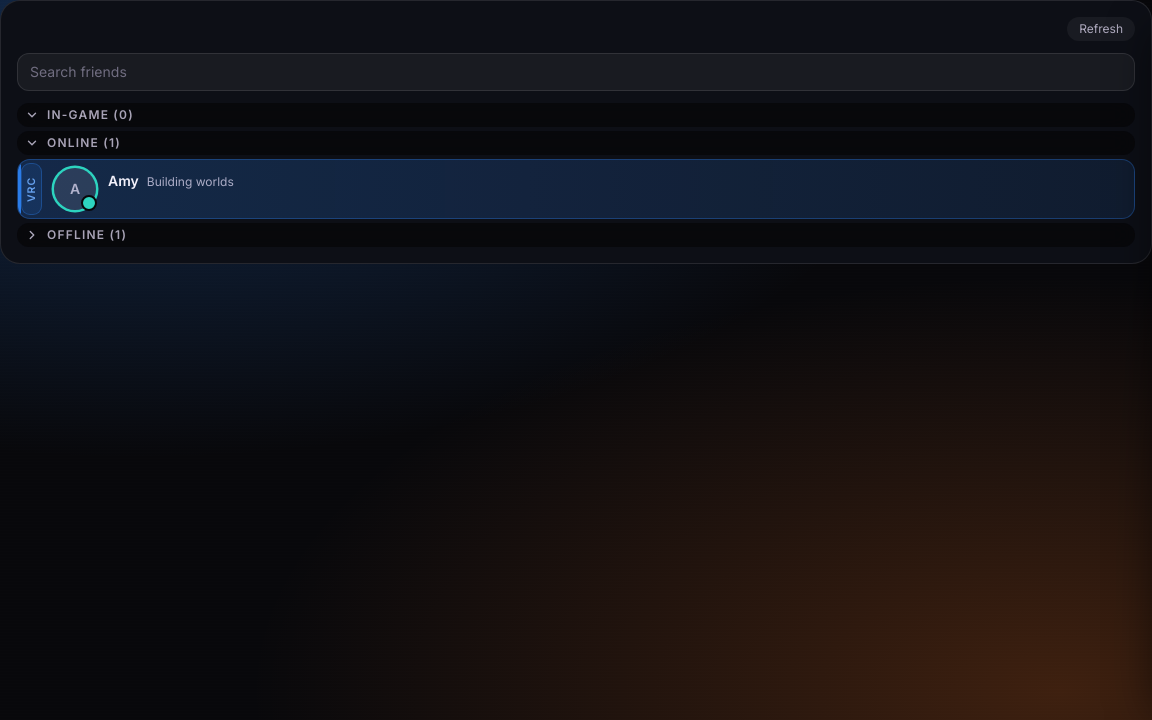
FriendsList search (VRX-65) › shows a custom status only for friends who are not offline
Click the button "Offline (1)": (87, 234) [17,223,1135,247]
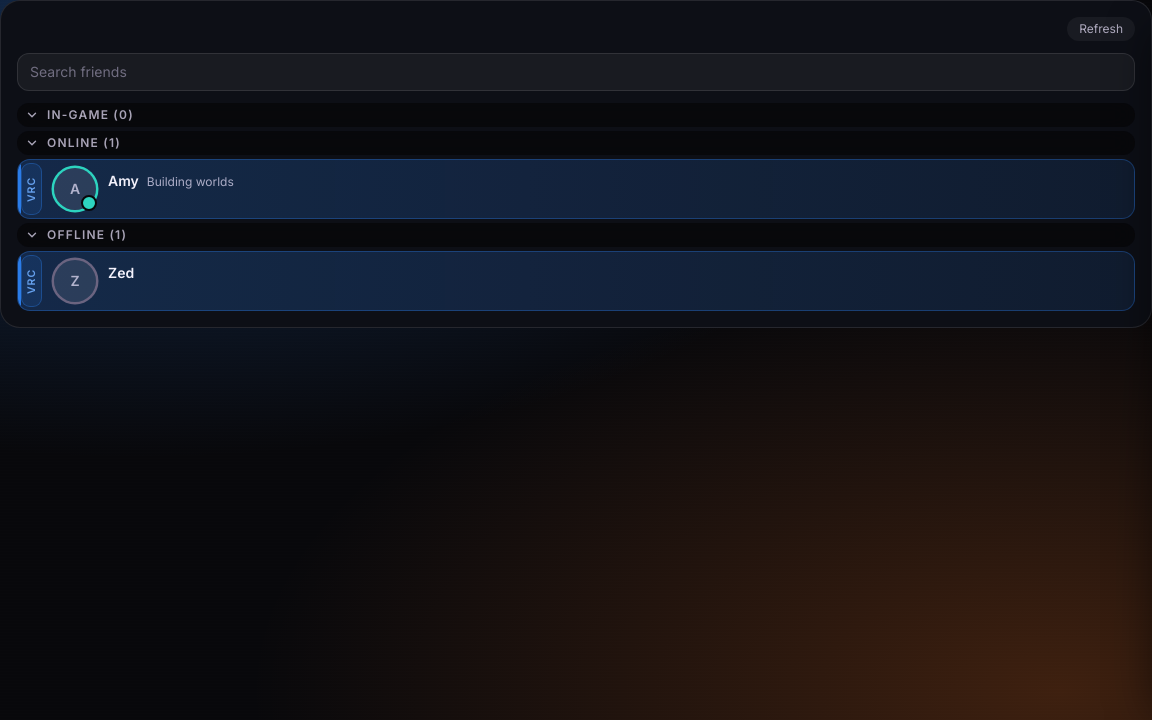
Expected: the text "Building worlds" is shown, [147,174,234,190]
Now the text "Zed" is shown, box [108,262,134,282]
